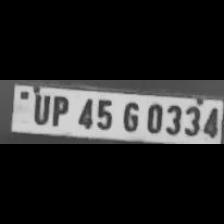0: (142, 100, 162, 132)
3: (162, 101, 182, 135), (180, 102, 200, 136)
4: (72, 96, 94, 128), (200, 103, 220, 137)
5: (93, 96, 115, 130)
6: (118, 98, 140, 132)
P: (48, 92, 70, 126)
U: (28, 91, 50, 125)
